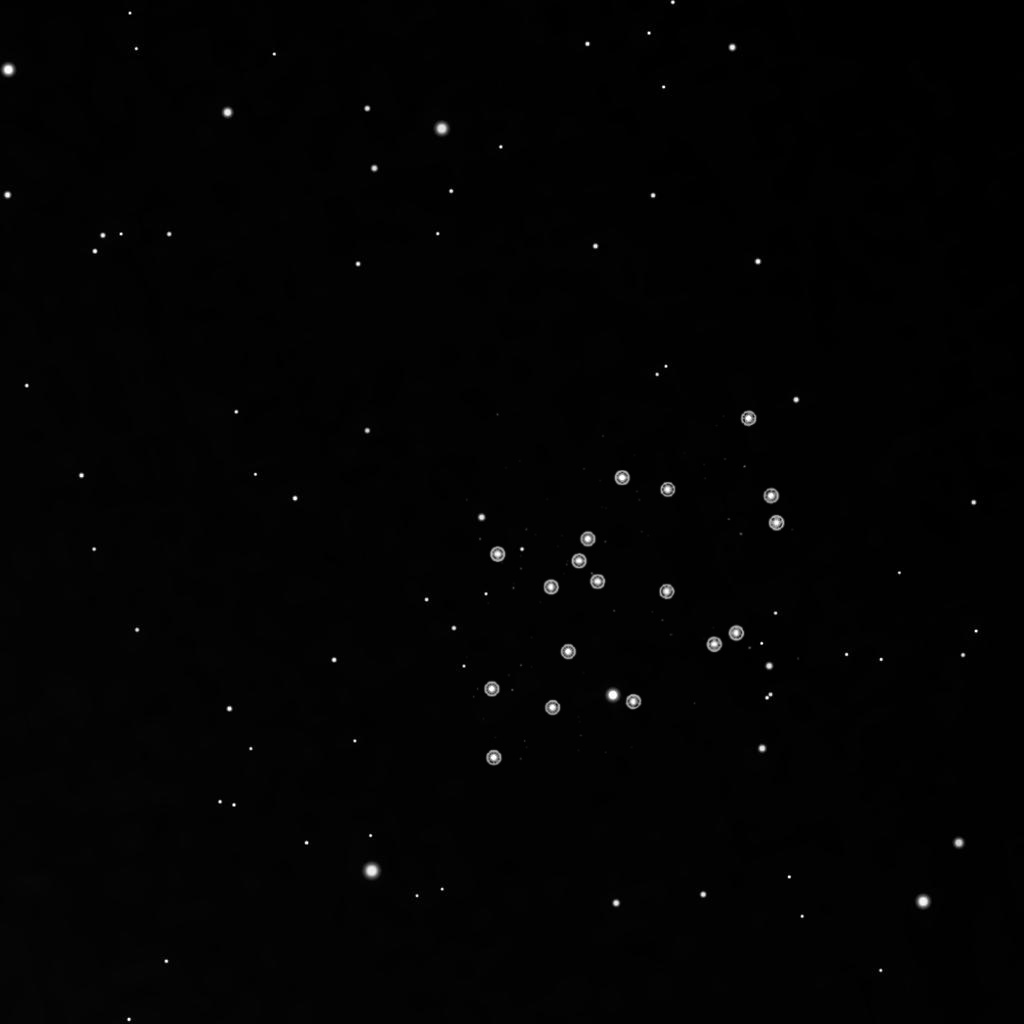canis_major: (537, 467, 679, 600)
